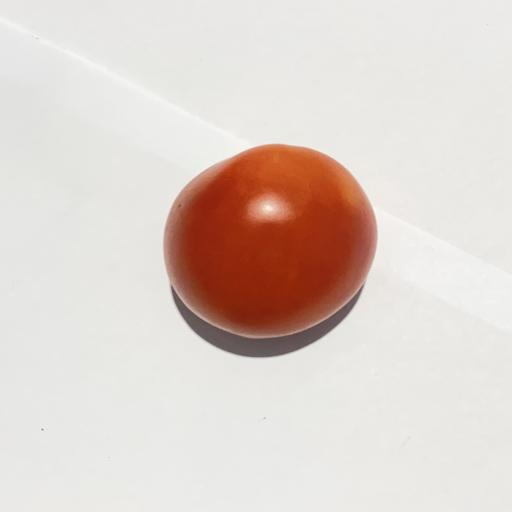ripe: (164, 145, 377, 338)
